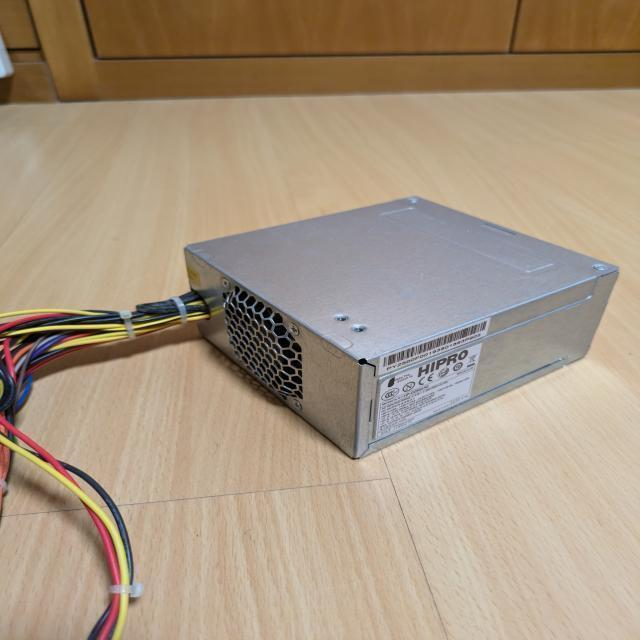PSU: (185, 195, 620, 460)
